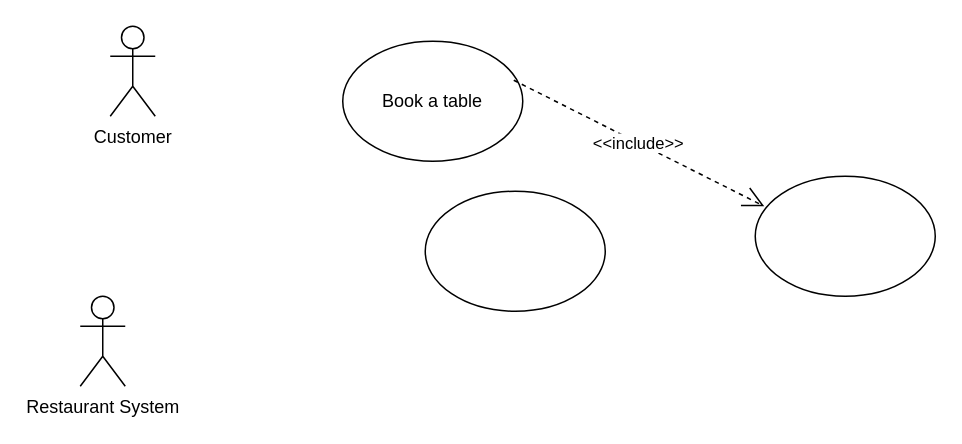
Some shapes in this 962 by 444 pixel diagram are drawn without their labels. The centre of each missing label's shape, as x and y in pixels:
"Login" goes at (844,235).
"Register" goes at (514,250).
